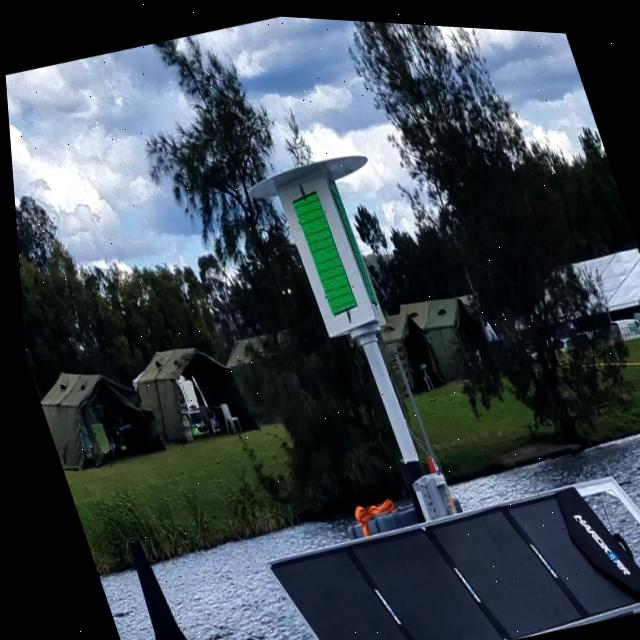led: (277, 174, 364, 320)
